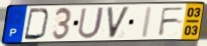3: (51, 6, 74, 42)
D: (23, 8, 52, 41)
F: (156, 6, 186, 38)
I: (139, 5, 154, 39)
U: (76, 6, 106, 40)
V: (105, 5, 132, 40)
